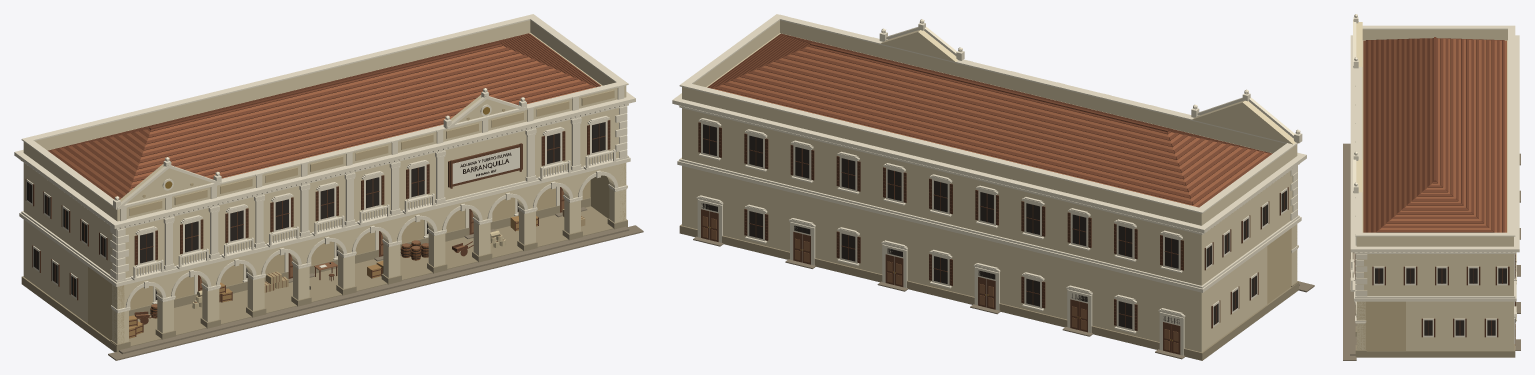
File: puerto-fluvial.glb
The picture shows the model from 3 angles, left to right: view 1: azimuth 30°, elevation 25°; view 2: azimuth 150°, elevation 25°; view 3: azimuth 270°, elevation 25°; orthographic projection. The views are drawn at different scales.
Parts seen in each view (by area): view 1: Aduana_Puerto_1857_Muro, Aduana_Puerto_1857_Moldura, Aduana_Puerto_1857_TejaOscura, Aduana_Puerto_1857_Teja, Aduana_Puerto_1857_Zocalo, Aduana_Puerto_1857_MuroSombra, Aduana_Puerto_1857_PiedraPiso, Aduana_Puerto_1857_Ventana, Aduana_Puerto_1857_Madera, Aduana_Puerto_1857_Persiana, Aduana_Puerto_1857_Rotulo, Aduana_Puerto_1857_CajaMadera (+1 smaller); view 2: Aduana_Puerto_1857_Muro, Aduana_Puerto_1857_Moldura, Aduana_Puerto_1857_TejaOscura, Aduana_Puerto_1857_Teja, Aduana_Puerto_1857_Ventana, Aduana_Puerto_1857_Zocalo, Aduana_Puerto_1857_Madera, Aduana_Puerto_1857_Persiana, Aduana_Puerto_1857_MuroSombra, Aduana_Puerto_1857_MaderaClara, Aduana_Puerto_1857_PiedraPiso; view 3: Aduana_Puerto_1857_TejaOscura, Aduana_Puerto_1857_Teja, Aduana_Puerto_1857_Muro, Aduana_Puerto_1857_Moldura, Aduana_Puerto_1857_PiedraPiso, Aduana_Puerto_1857_MuroSombra, Aduana_Puerto_1857_Ventana, Aduana_Puerto_1857_Zocalo, Aduana_Puerto_1857_Persiana, Aduana_Puerto_1857_Madera.
Boxes of the visible parts, <box> form: Aduana_Puerto_1857_Muro: <box>23,20,626,344</box>; Aduana_Puerto_1857_Moldura: <box>14,14,635,313</box>; Aduana_Puerto_1857_TejaOscura: <box>48,33,600,199</box>; Aduana_Puerto_1857_Teja: <box>52,34,600,199</box>; Aduana_Puerto_1857_Zocalo: <box>21,197,627,352</box>; Aduana_Puerto_1857_MuroSombra: <box>88,90,626,343</box>; Aduana_Puerto_1857_PiedraPiso: <box>108,207,643,360</box>; Aduana_Puerto_1857_Ventana: <box>27,122,605,299</box>; Aduana_Puerto_1857_Madera: <box>29,120,610,337</box>; Aduana_Puerto_1857_Persiana: <box>25,120,610,300</box>; Aduana_Puerto_1857_Rotulo: <box>319,147,519,267</box>; Aduana_Puerto_1857_CajaMadera: <box>129,210,538,338</box>; Aduana_Puerto_1857_Muro: <box>682,20,1297,352</box>; Aduana_Puerto_1857_Moldura: <box>672,14,1306,355</box>; Aduana_Puerto_1857_TejaOscura: <box>708,33,1272,207</box>; Aduana_Puerto_1857_Teja: <box>707,34,1268,206</box>; Aduana_Puerto_1857_Ventana: <box>701,124,1286,328</box>; Aduana_Puerto_1857_Zocalo: <box>679,224,1298,360</box>; Aduana_Puerto_1857_Madera: <box>698,122,1284,354</box>; Aduana_Puerto_1857_Persiana: <box>698,122,1288,330</box>; Aduana_Puerto_1857_MuroSombra: <box>1267,228,1297,303</box>; Aduana_Puerto_1857_MaderaClara: <box>702,216,1178,352</box>; Aduana_Puerto_1857_PiedraPiso: <box>693,236,1314,359</box>; Aduana_Puerto_1857_TejaOscura: <box>1365,37,1504,232</box>; Aduana_Puerto_1857_Teja: <box>1363,38,1506,232</box>; Aduana_Puerto_1857_Muro: <box>1356,22,1513,350</box>; Aduana_Puerto_1857_Moldura: <box>1350,14,1519,349</box>; Aduana_Puerto_1857_PiedraPiso: <box>1343,143,1520,360</box>; Aduana_Puerto_1857_MuroSombra: <box>1356,301,1405,350</box>; Aduana_Puerto_1857_Ventana: <box>1375,253,1515,335</box>; Aduana_Puerto_1857_Zocalo: <box>1355,308,1515,357</box>; Aduana_Puerto_1857_Persiana: <box>1355,254,1515,337</box>; Aduana_Puerto_1857_Madera: <box>1354,253,1515,335</box>.
Bounding box in the file's own units: 45.6 × 15.2 × 15.82.
